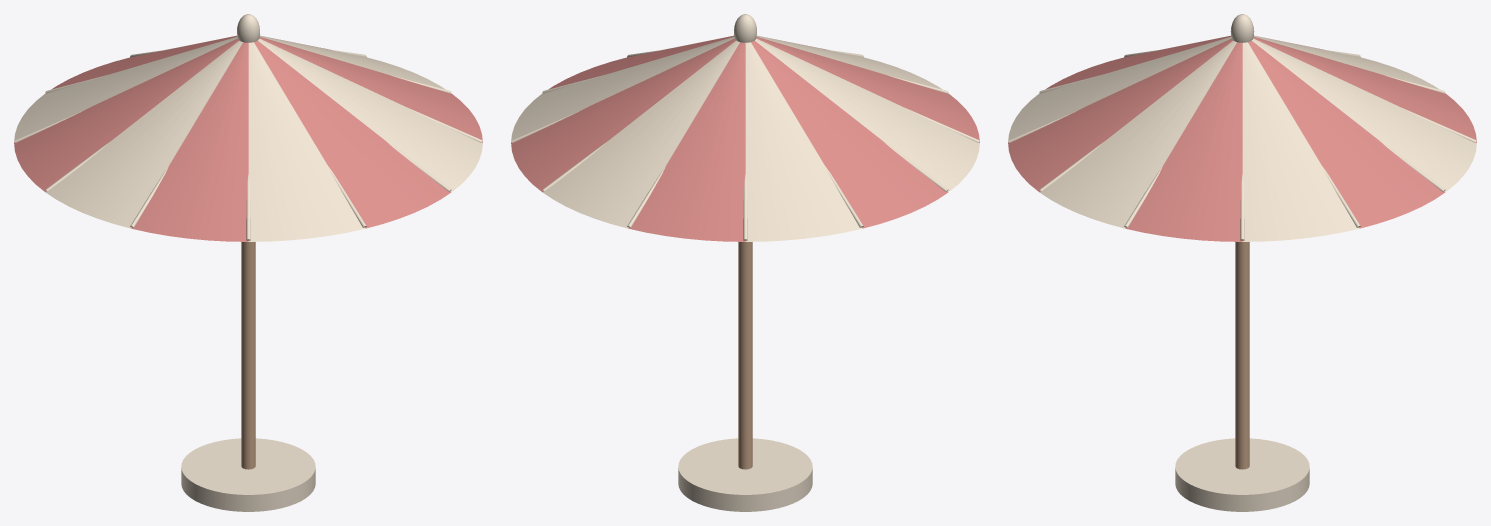
File: umbrellaRose.glb
3 views of the same model, side by side, from view 1: azimuth 30°, elevation 25°; view 2: azimuth 150°, elevation 25°; view 3: azimuth 270°, elevation 25° (orthographic).
Parts seen in each view (by area): view 1: canopy stripe (×10), circular moulding, umbrella pole, canopy cap; view 2: canopy stripe (×10), circular moulding, umbrella pole, canopy cap; view 3: canopy stripe (×10), circular moulding, umbrella pole, canopy cap.
Boxes of the visible parts, x1=… form: canopy stripe (×10): x1=14, y1=35, x2=482, y2=241; circular moulding: x1=181, y1=438, x2=315, y2=511; umbrella pole: x1=241, y1=242, x2=255, y2=469; canopy cap: x1=237, y1=14, x2=259, y2=42; canopy stripe (×10): x1=511, y1=35, x2=979, y2=241; circular moulding: x1=678, y1=438, x2=812, y2=511; umbrella pole: x1=738, y1=242, x2=752, y2=469; canopy cap: x1=734, y1=14, x2=756, y2=42; canopy stripe (×10): x1=1008, y1=35, x2=1476, y2=241; circular moulding: x1=1175, y1=438, x2=1309, y2=511; umbrella pole: x1=1235, y1=242, x2=1249, y2=469; canopy cap: x1=1230, y1=14, x2=1254, y2=42.
Bounding box in the file's own units: 3 × 3.31 × 3.
